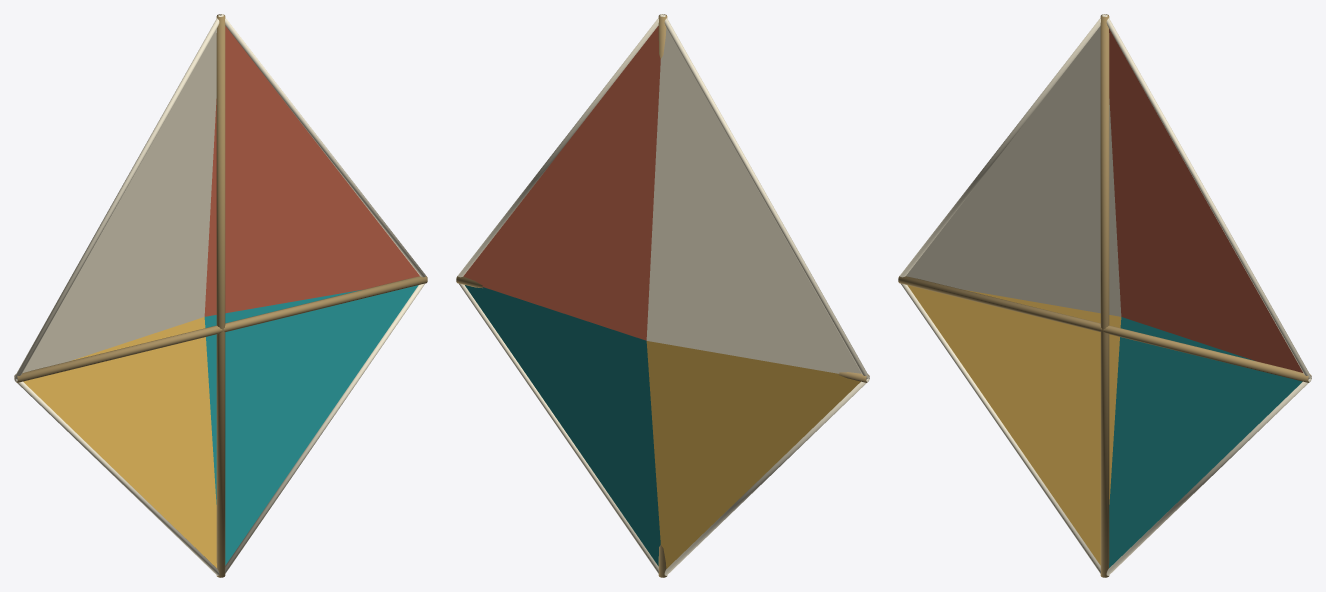
Rendered from pacific-kite.glb.
The picture shows the model from 3 angles, left to right: view 1: azimuth 30°, elevation 25°; view 2: azimuth 150°, elevation 25°; view 3: azimuth 330°, elevation 25°; orthographic projection.
Parts seen in each view (by area): view 1: LifeRoot_Kite cream, LifeRoot_Kite coral, LifeRoot_Kite turquoise, LifeRoot_Kite golden yellow, LifeRoot_Kite bamboo spars; view 2: LifeRoot_Kite cream, LifeRoot_Kite coral, LifeRoot_Kite golden yellow, LifeRoot_Kite turquoise, LifeRoot_Kite bamboo spars; view 3: LifeRoot_Kite cream, LifeRoot_Kite coral, LifeRoot_Kite golden yellow, LifeRoot_Kite turquoise, LifeRoot_Kite bamboo spars.
Part boxes in pixels (left/top/right/bottom): LifeRoot_Kite cream: left=14, top=14, right=427, bottom=577; LifeRoot_Kite coral: left=204, top=26, right=419, bottom=316; LifeRoot_Kite turquoise: left=204, top=285, right=418, bottom=565; LifeRoot_Kite golden yellow: left=23, top=317, right=216, bottom=567; LifeRoot_Kite bamboo spars: left=14, top=14, right=427, bottom=577; LifeRoot_Kite cream: left=456, top=14, right=869, bottom=577; LifeRoot_Kite coral: left=463, top=26, right=660, bottom=340; LifeRoot_Kite golden yellow: left=646, top=341, right=860, bottom=568; LifeRoot_Kite turquoise: left=465, top=285, right=660, bottom=566; LifeRoot_Kite bamboo spars: left=456, top=14, right=869, bottom=577; LifeRoot_Kite cream: left=898, top=14, right=1311, bottom=577; LifeRoot_Kite coral: left=1109, top=29, right=1302, bottom=372; LifeRoot_Kite golden yellow: left=907, top=285, right=1121, bottom=565; LifeRoot_Kite turquoise: left=1109, top=317, right=1302, bottom=567; LifeRoot_Kite bamboo spars: left=898, top=14, right=1311, bottom=577.
Size of the model in its own units: 1.31 by 1.71 by 0.102.
